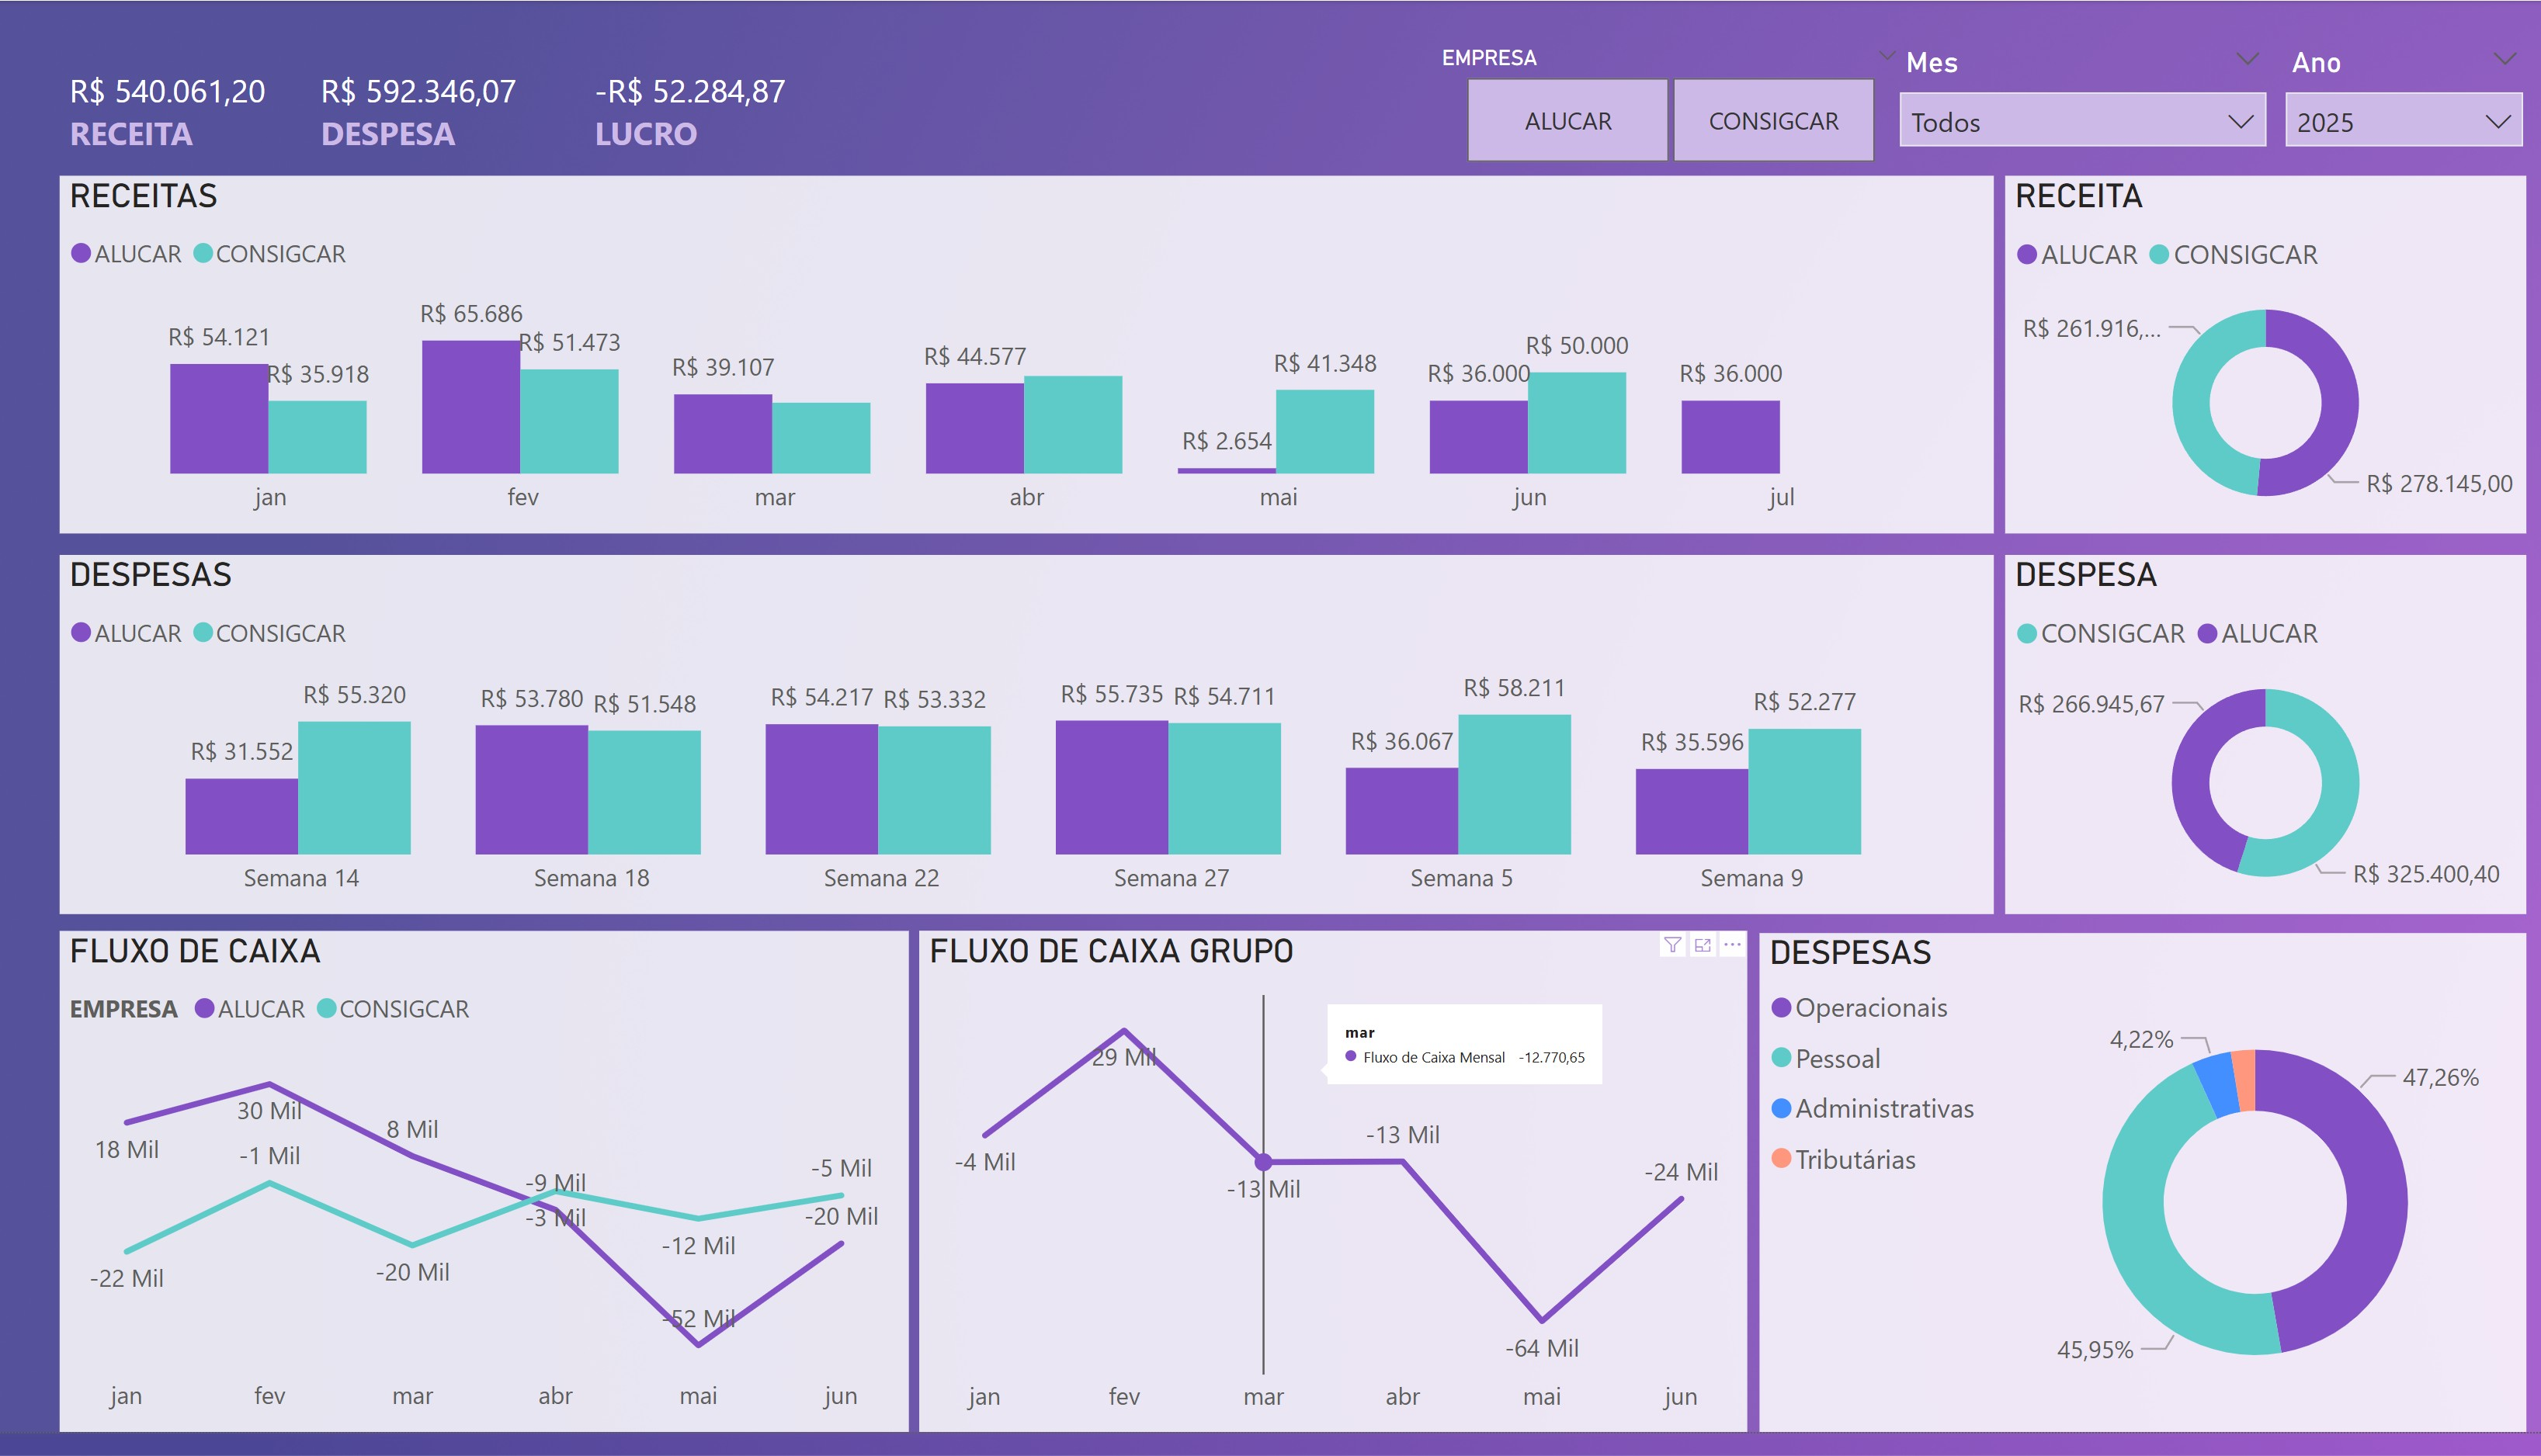

The page's visual inventory and layout, read from the dashboard file:
{"tool":"powerbi","page":{"name":"Visão Geral","canvas":[1280,720],"ordinal":0},"visuals":[{"type":"clusteredColumnChart","title":"RECEITAS","fields":{"Y":["_medidas.RECEITA"],"Series":["empresas.EMPRESA"],"Category":["dCalendario.Mes texto","dCalendario.Semana Anual"]},"box":[31,87.9,973,180],"z":0},{"type":"clusteredColumnChart","title":"DESPESAS","fields":{"Series":["empresas.EMPRESA"],"Y":["_medidas.DESPESAS"],"Category":["dCalendario.Mes texto","dCalendario.Semana Anual"]},"box":[31,278.8,973,180.9],"z":1000},{"type":"multiRowCard","fields":{"Values":["_medidas.DESPESAS"]},"box":[157.4,28.9,126.4,53.8],"z":2000},{"type":"multiRowCard","fields":{"Values":["_medidas.LUCRO"]},"box":[295,28.9,127.1,53.8],"z":3000},{"type":"donutChart","title":"RECEITA","fields":{"Category":["empresas.EMPRESA"],"Y":["_medidas.RECEITA"]},"box":[1009.8,87.9,262.1,180],"z":4000},{"type":"slicer","fields":{"Values":["dCalendario.Ano"]},"box":[1141,17.4,139.3,70.8],"z":5000},{"type":"slicer","fields":{"Values":["empresas.EMPRESA"]},"box":[713.6,17.4,254.7,70.4],"z":6000},{"type":"donutChart","title":"DESPESAS","fields":{"Y":["_medidas.DESPESAS"],"Category":["despesas.Conta simplificada"]},"box":[886,469.1,386,251.7],"z":7000},{"type":"multiRowCard","fields":{"Values":["_medidas.RECEITA"]},"box":[31.3,28.8,126.4,53.6],"z":8000},{"type":"donutChart","title":"DESPESA","fields":{"Category":["empresas.EMPRESA"],"Y":["_medidas.DESPESAS"]},"box":[1009.8,278.8,262.1,180.9],"z":9000},{"type":"lineChart","title":"FLUXO DE CAIXA","fields":{"Category":["dCalendario.Mes texto"],"Series":["empresas.EMPRESA"],"Y":["_medidas.Caixa Anual Acumulado"]},"box":[30.9,468,427,252.2],"z":10000},{"type":"lineChart","title":"FLUXO DE CAIXA GRUPO","fields":{"Category":["dCalendario.Mes texto"],"Y":["_medidas.Caixa Anual Acumulado"]},"box":[463.5,468,416.3,252.2],"z":11000},{"type":"slicer","fields":{"Values":["dCalendario.Mes"]},"box":[946.6,17.4,203.9,70.8],"z":12000}]}

Visuals, with their boxes in screenshot pixels (x1, y1, x2, y2), scaled from the page's 1280x720 canvas onto the 2541x1456 screenshot:
"RECEITAS" clusteredColumnChart: crop(61, 178, 1993, 542)
"DESPESAS" clusteredColumnChart: crop(61, 563, 1993, 930)
multiRowCard - _medidas.DESPESAS: crop(312, 58, 564, 167)
multiRowCard - _medidas.LUCRO: crop(585, 58, 838, 167)
"RECEITA" donutChart: crop(2005, 178, 2525, 542)
slicer - dCalendario.Ano: crop(2265, 35, 2540, 179)
slicer - empresas.EMPRESA: crop(1417, 35, 1922, 178)
"DESPESAS" donutChart: crop(1759, 948, 2525, 1455)
multiRowCard - _medidas.RECEITA: crop(62, 58, 313, 167)
"DESPESA" donutChart: crop(2005, 563, 2525, 930)
"FLUXO DE CAIXA" lineChart: crop(61, 946, 909, 1455)
"FLUXO DE CAIXA GRUPO" lineChart: crop(920, 946, 1747, 1455)
slicer - dCalendario.Mes: crop(1879, 35, 2284, 179)
